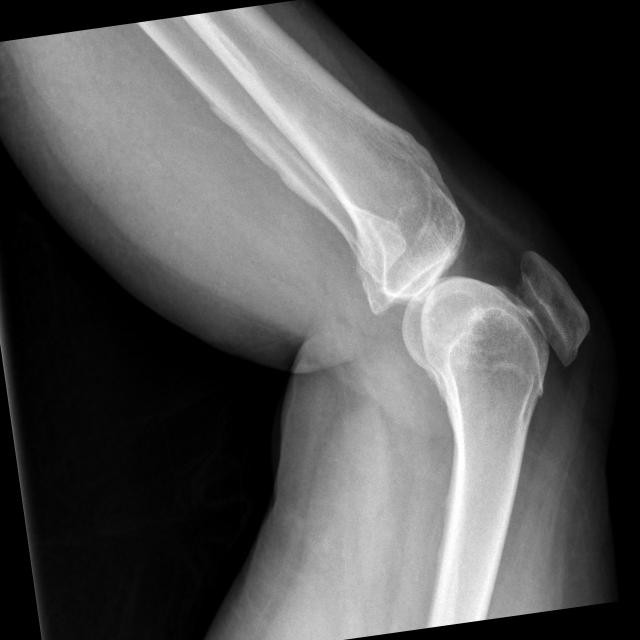Knee: (343, 154, 604, 422)
